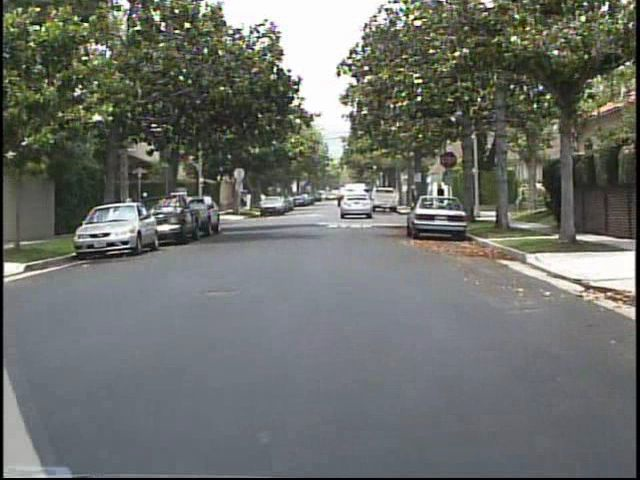person: (125, 190, 141, 230), (431, 181, 448, 213)
